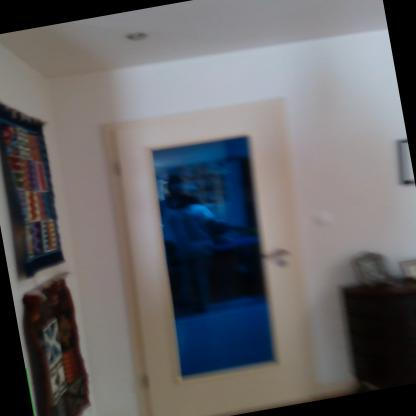closed: (90, 99, 341, 415)
